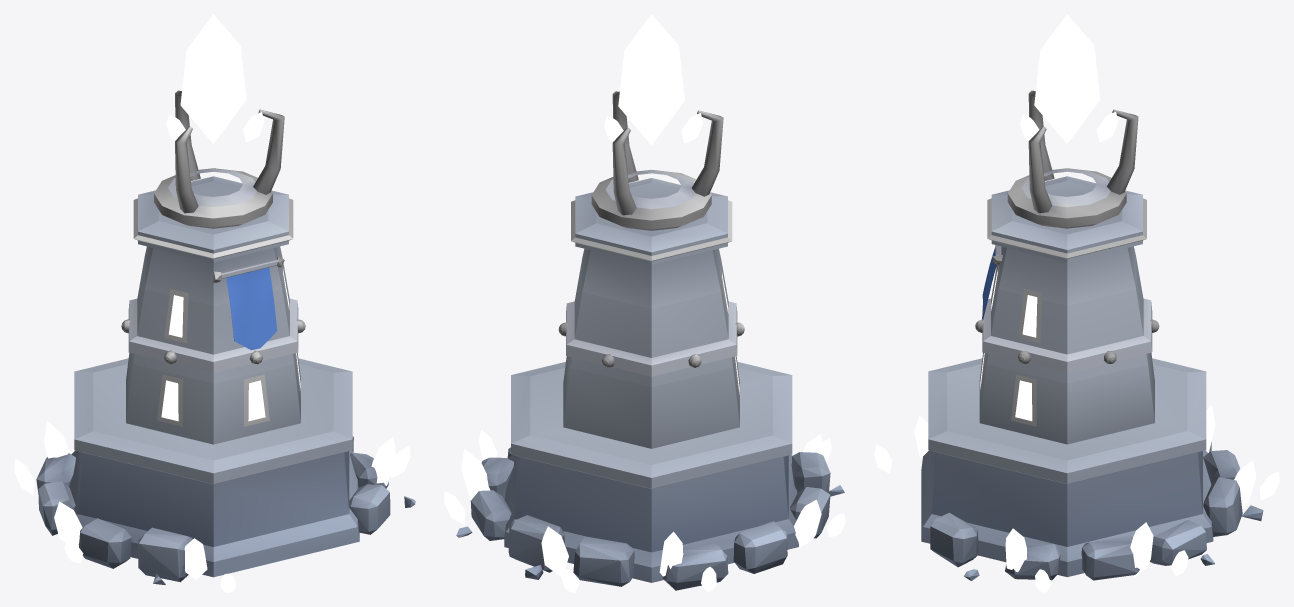
The model's file is frost_0_1.glb.
3 renders of one model, left to right at view 1: azimuth 30°, elevation 25°; view 2: azimuth 150°, elevation 25°; view 3: azimuth 270°, elevation 25°, orthographic.
Parts seen in each view (by area): view 1: Tower, Turret; view 2: Tower, Turret; view 3: Tower, Turret.
Boxes of the visible parts, left/top/right/bottom form: Tower: left=14, top=176, right=415, bottom=592; Turret: left=154, top=14, right=284, bottom=228; Tower: left=444, top=178, right=845, bottom=592; Turret: left=591, top=14, right=723, bottom=230; Tower: left=874, top=176, right=1279, bottom=592; Turret: left=1007, top=14, right=1138, bottom=228.
Bounding box in the file's own units: 4.1 × 5.59 × 4.09.
